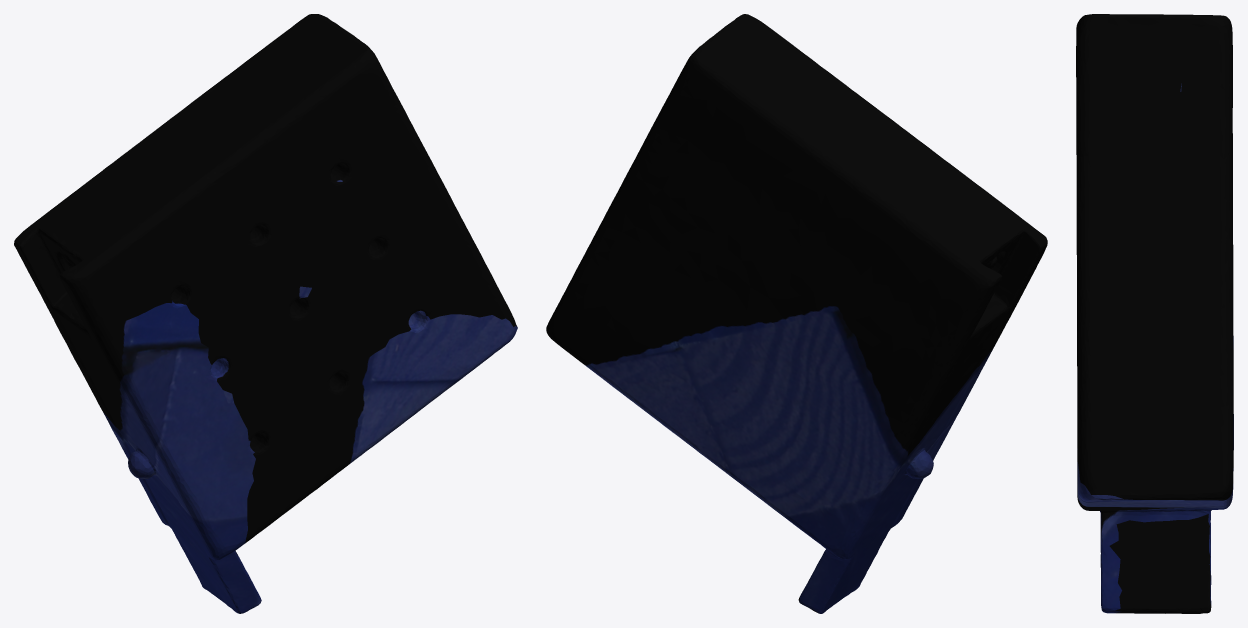
3 renders of one model, left to right at view 1: azimuth 30°, elevation 25°; view 2: azimuth 150°, elevation 25°; view 3: azimuth 270°, elevation 25°, orthographic. The views are drawn at different scales.
Parts seen in each view (by area): view 1: node; view 2: node; view 3: node.
Part boxes in pixels (x1,y1,x2,y2): node: (14,14,517,613); node: (546,14,1047,613); node: (1076,14,1233,613).
Bounding box in the file's own units: 0.1675 × 0.1911 × 0.0407.
